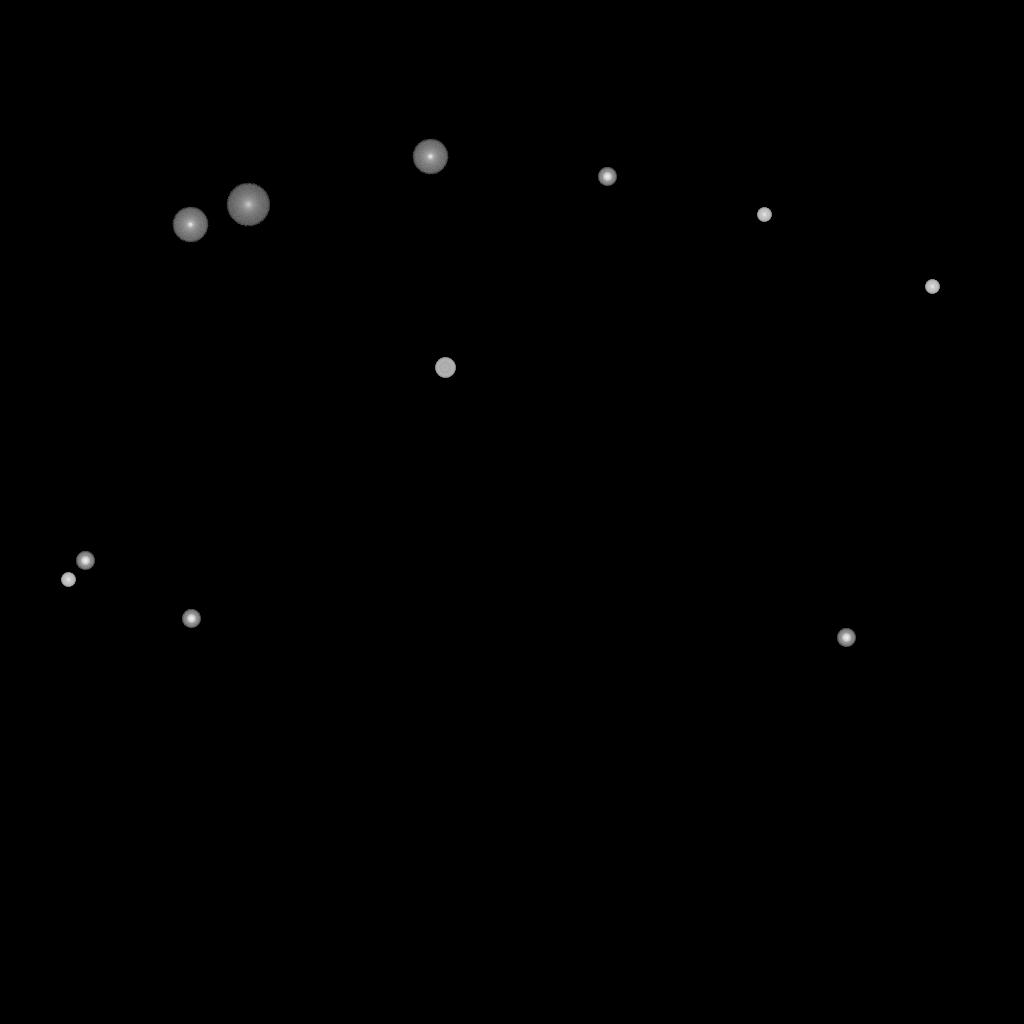depth:-20: (837, 629, 855, 647), (598, 168, 616, 186), (182, 610, 200, 628), (76, 552, 94, 570)
depth:-30: (757, 208, 771, 222), (61, 573, 75, 587), (925, 280, 939, 294)
depth:-40: (435, 358, 455, 378)
depth:0: (412, 139, 448, 175), (172, 207, 208, 243)
depth:10: (226, 183, 270, 227)
